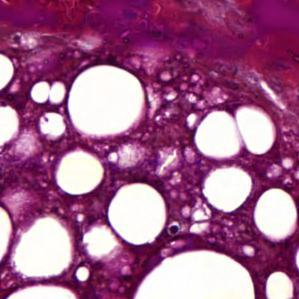steatosis: (66, 64, 143, 136), (106, 185, 172, 243), (250, 188, 297, 240), (58, 152, 105, 194)
